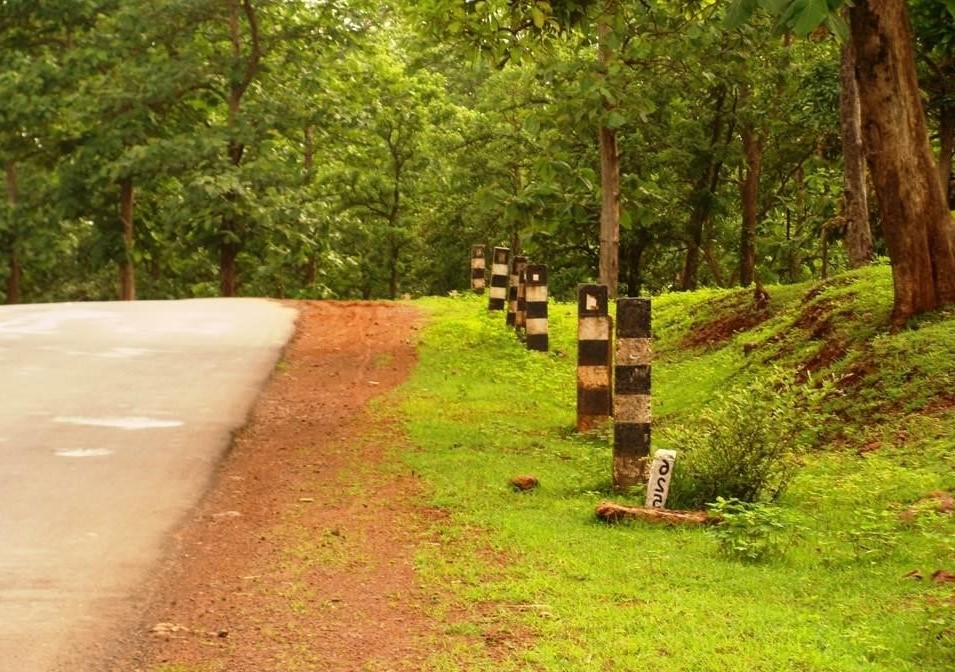Road: (1, 295, 321, 672)
